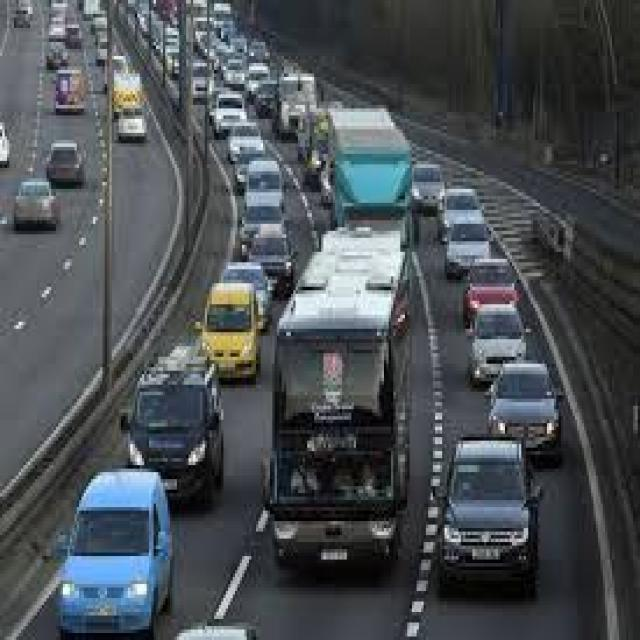bus: (263, 224, 407, 567)
car: (61, 469, 170, 637), (440, 441, 538, 598), (130, 346, 221, 504), (489, 364, 559, 462), (202, 283, 258, 381), (468, 304, 524, 385), (463, 259, 517, 325), (244, 161, 282, 245), (249, 224, 291, 297), (223, 262, 265, 329), (447, 213, 489, 276), (438, 189, 482, 245), (14, 178, 58, 231), (228, 122, 263, 185), (112, 73, 144, 140), (412, 164, 442, 210), (47, 143, 81, 182), (56, 70, 81, 112)
